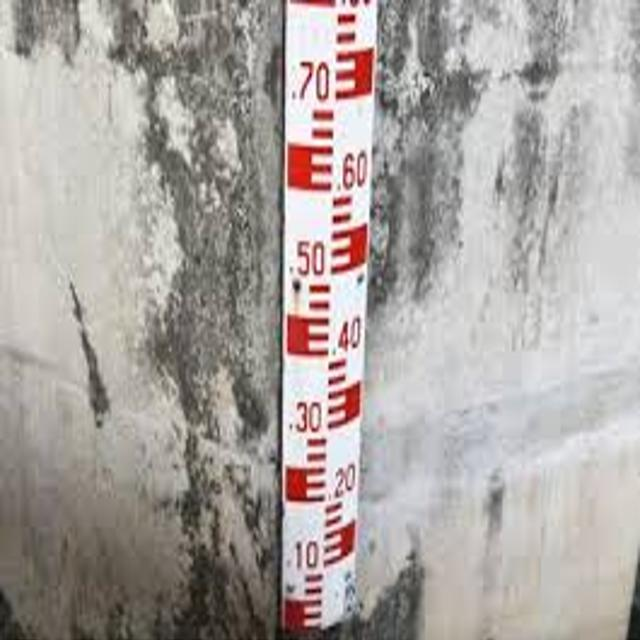ruler: (259, 0, 380, 640)
value: (282, 51, 338, 111), (274, 384, 330, 442), (282, 233, 336, 288), (328, 143, 380, 199), (324, 305, 369, 362), (278, 527, 326, 575), (318, 456, 362, 506)
